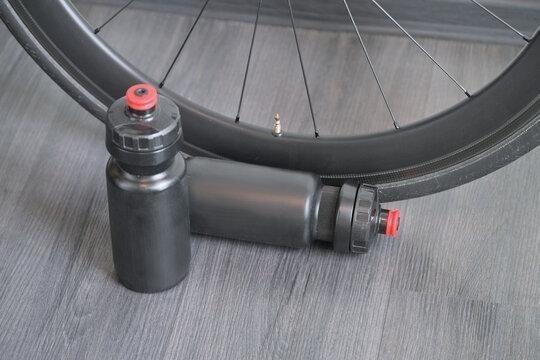gym bottle: (164, 155, 402, 262), (102, 81, 194, 294)
